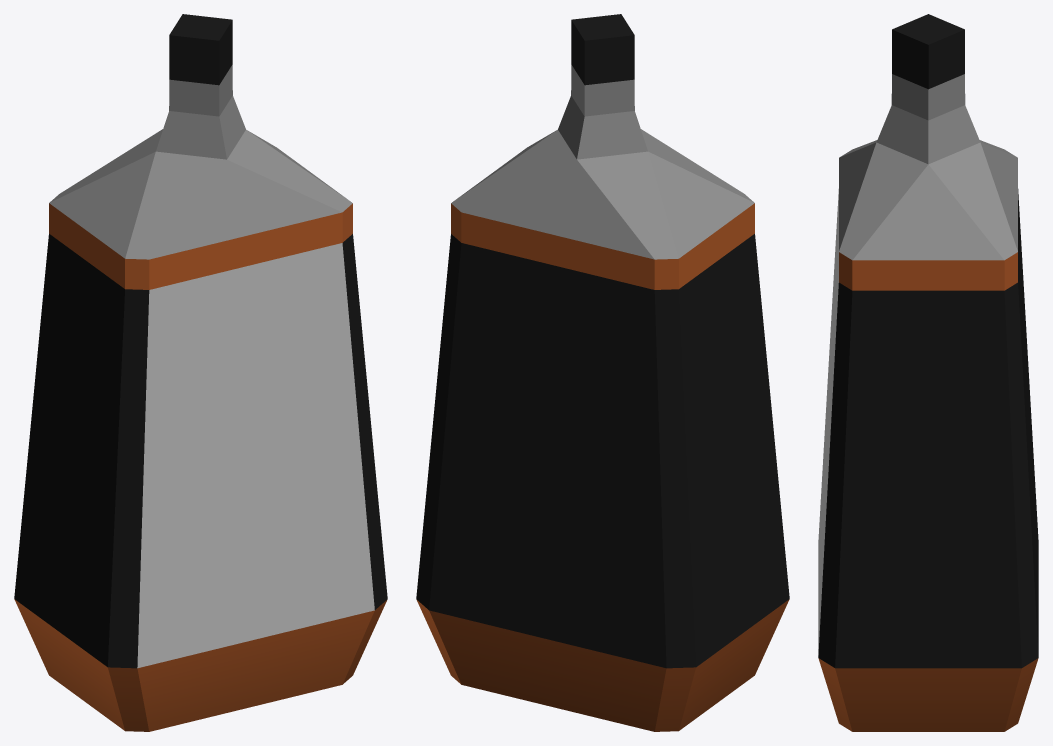
File: Bottle 03.fbx
The picture shows the model from 3 angles, left to right: view 1: azimuth 30°, elevation 25°; view 2: azimuth 150°, elevation 25°; view 3: azimuth 270°, elevation 25°; orthographic projection.
Parts seen in each view (by area): view 1: Bottle 03; view 2: Bottle 03; view 3: Bottle 03.
Part boxes in pixels (x1,y1,x2,y2): Bottle 03: (14, 14, 387, 731); Bottle 03: (416, 14, 789, 731); Bottle 03: (818, 14, 1038, 731).
Bounding box in the file's own units: 12.29 × 27.18 × 8.39.
